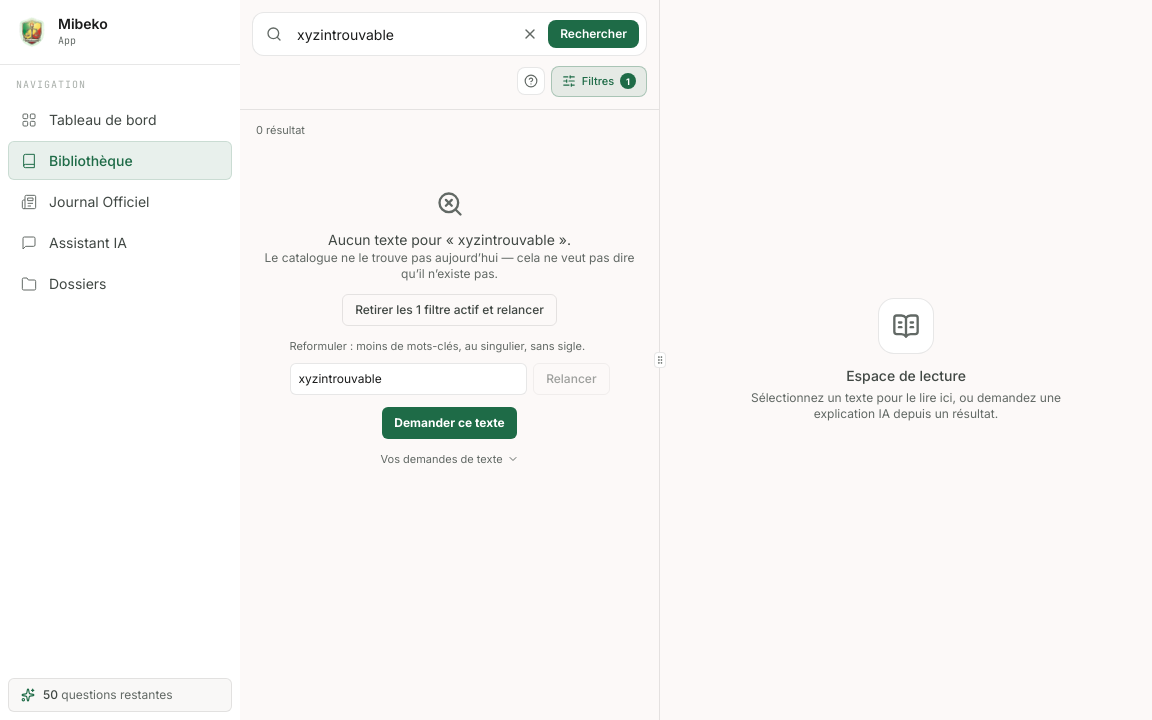
Test case: Library — sortie utile sur recherche vide (front#34) › propose de retirer les filtres actifs quand la recherche filtrée ne trouve rien
Click the button "Retirer les 1 filtre actif et relancer". click: {"x": 450, "y": 310}
box: x1=342 y1=294 x2=557 y2=326
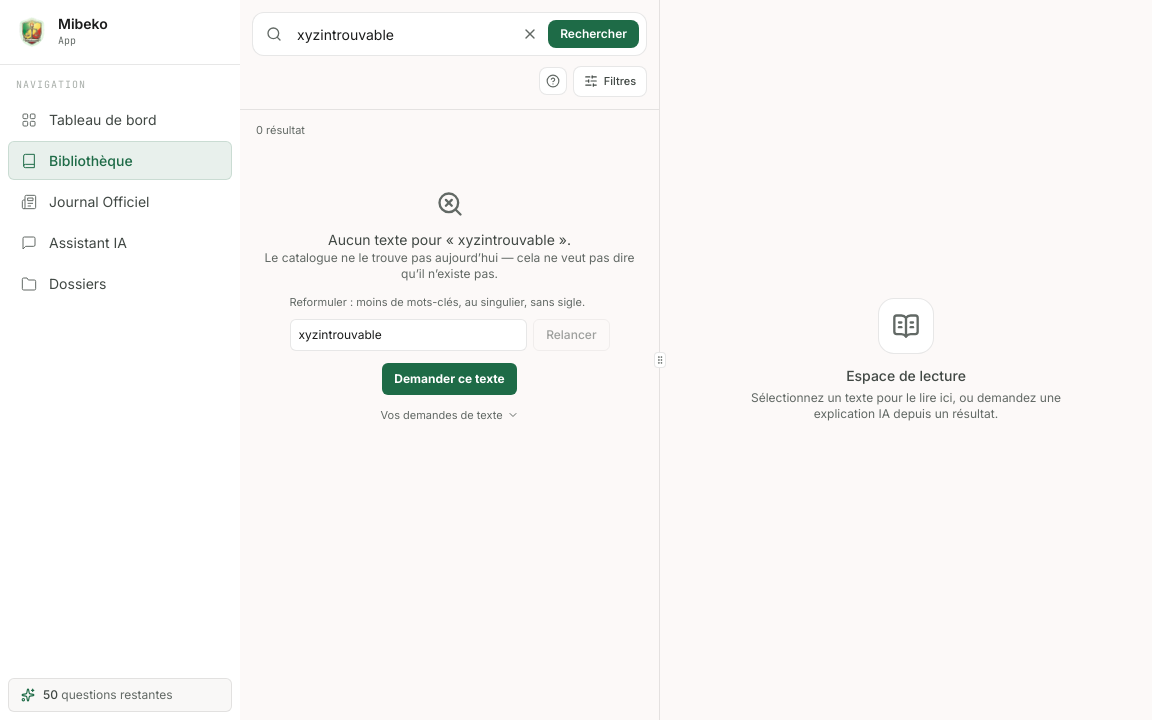
Expected: no buttons "Retirer" are shown
